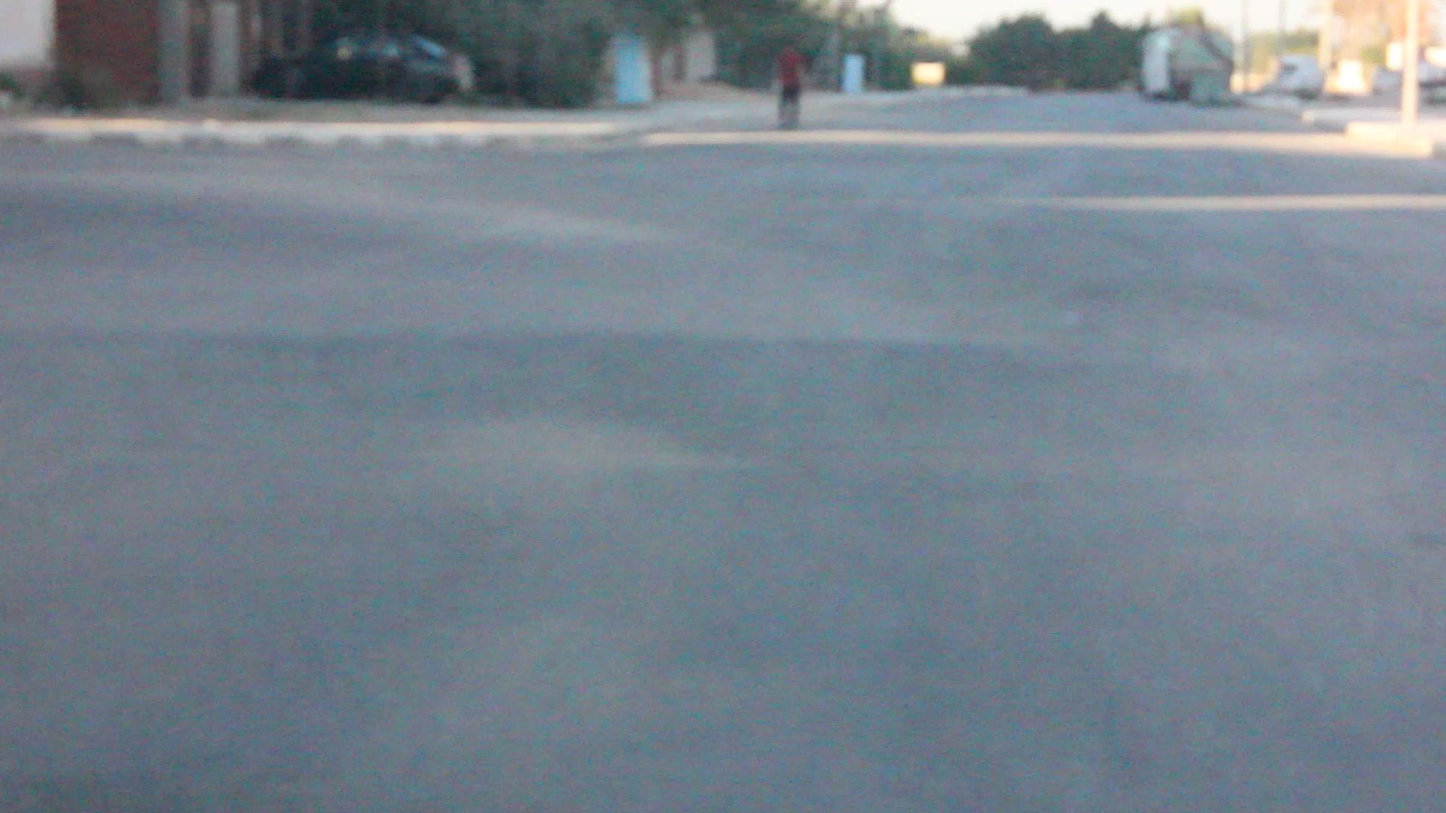Bump: (2, 314, 1446, 455)
